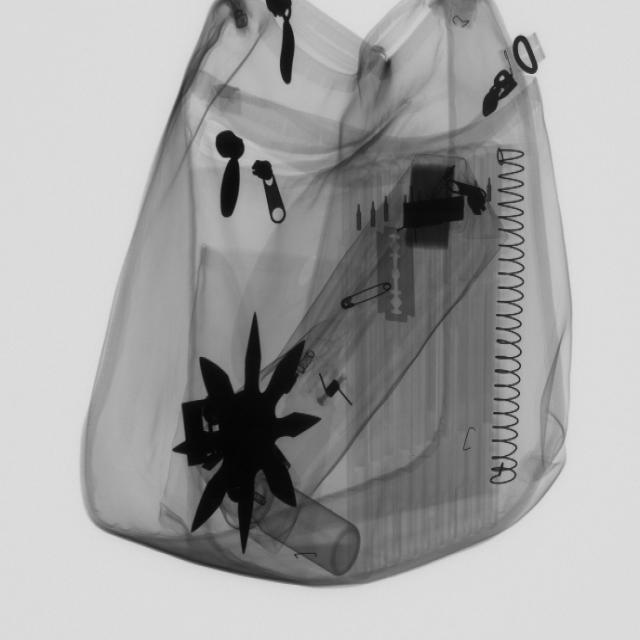BLADE: (368, 213, 423, 332)
SHURIKEN: (177, 314, 320, 550)
